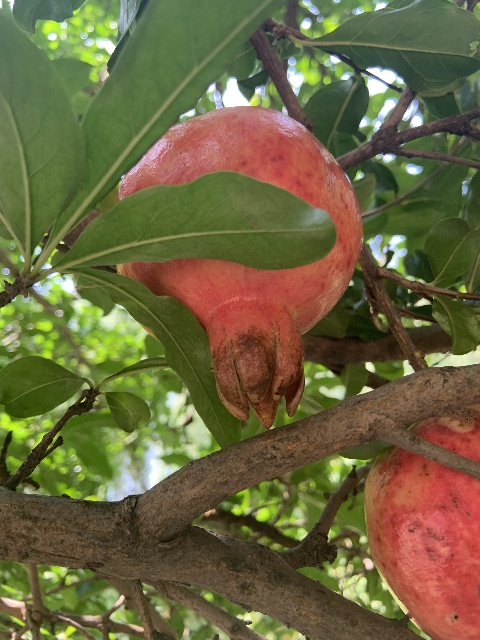ripe: (116, 105, 362, 429), (365, 415, 480, 640)
